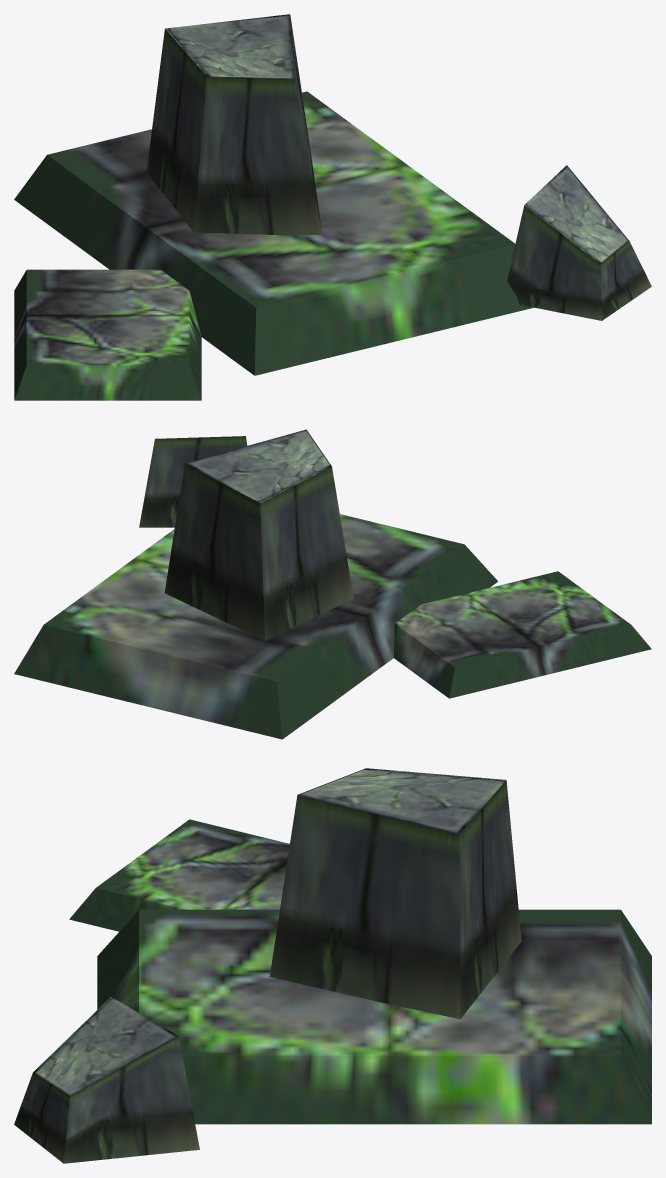
File: ruins00.obj
3 renders of one model, top to bottom at view 1: azimuth 30°, elevation 25°; view 2: azimuth 150°, elevation 25°; view 3: azimuth 270°, elevation 25°, orthographic. The views are drawn at different scales.
Visible parts, largest first — view 1: NorthrendRubble0; view 2: NorthrendRubble0; view 3: NorthrendRubble0.
Boxes of the visible parts, x1,y1,x2,y2 form: NorthrendRubble0: (14, 14, 651, 400); NorthrendRubble0: (14, 429, 651, 739); NorthrendRubble0: (14, 768, 651, 1163).
Bounding box in the file's own units: 4.2 × 1.38 × 3.43.
Materials: 1 (1 with a texture image).
